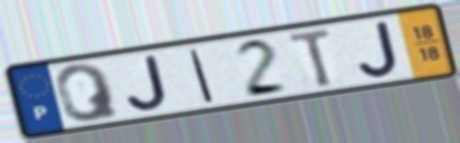2: (230, 38, 290, 100)
I: (186, 47, 217, 105)
J: (123, 52, 171, 114), (356, 19, 402, 79)
Q: (52, 61, 124, 124)
T: (286, 25, 338, 90)
